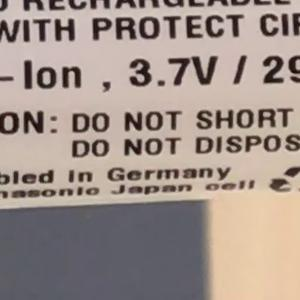keyword: (119, 46, 225, 97)
